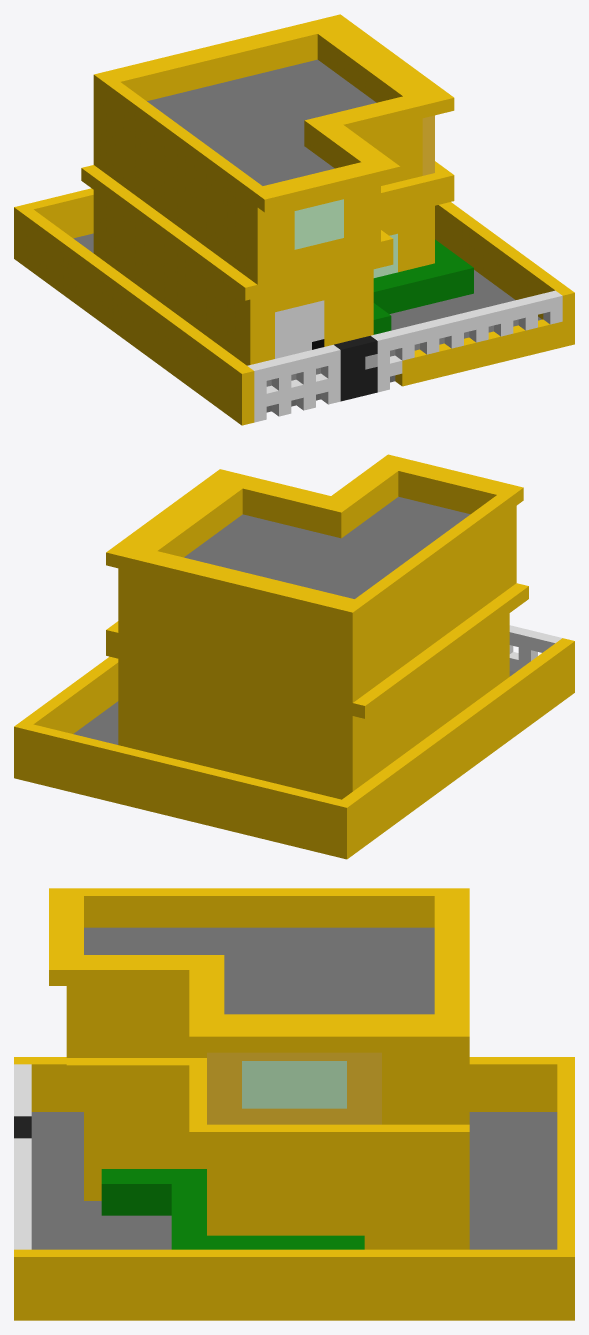
File: Casa2.1.fbx
The picture shows the model from 3 angles, top to bottom: view 1: azimuth 30°, elevation 25°; view 2: azimuth 150°, elevation 25°; view 3: azimuth 270°, elevation 25°; orthographic projection. The views are drawn at different scales.
Visible parts, largest first — view 1: Cubo.3350; view 2: Cubo.3350; view 3: Cubo.3350.
Part boxes in pixels (left/top/right/bottom): Cubo.3350: left=14, top=14, right=574, bottom=425; Cubo.3350: left=14, top=454, right=574, bottom=859; Cubo.3350: left=14, top=888, right=574, bottom=1320.
Bounding box in the file's own units: 2700 × 1600 × 3200.
